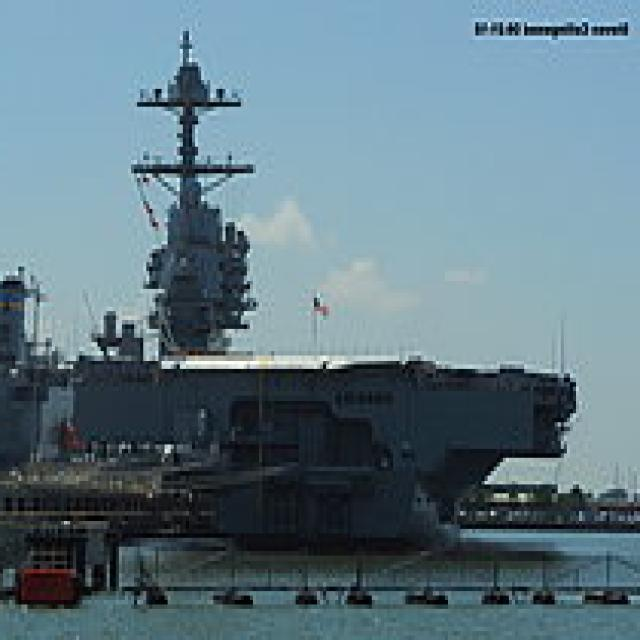Warship: (70, 22, 585, 547)
